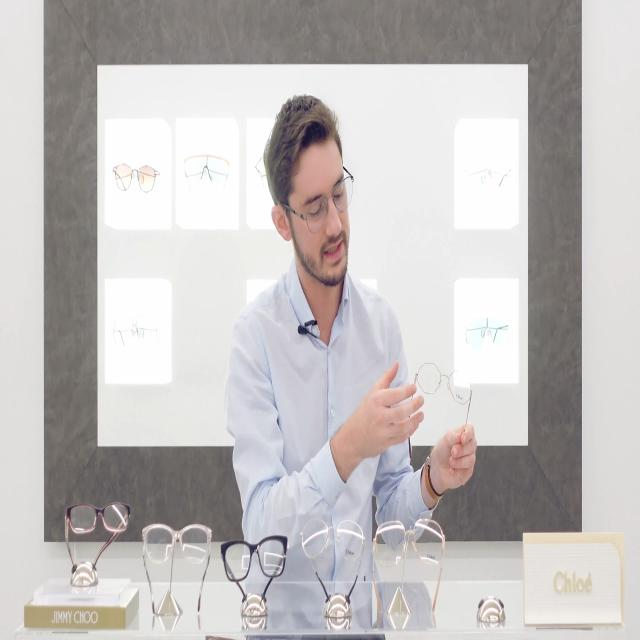dress: (226, 255, 442, 584)
glasses: (142, 520, 212, 569), (301, 512, 366, 562), (222, 532, 288, 581), (301, 172, 354, 232), (375, 520, 446, 563), (413, 360, 474, 404), (66, 498, 132, 536), (184, 150, 228, 187), (112, 163, 158, 197)
